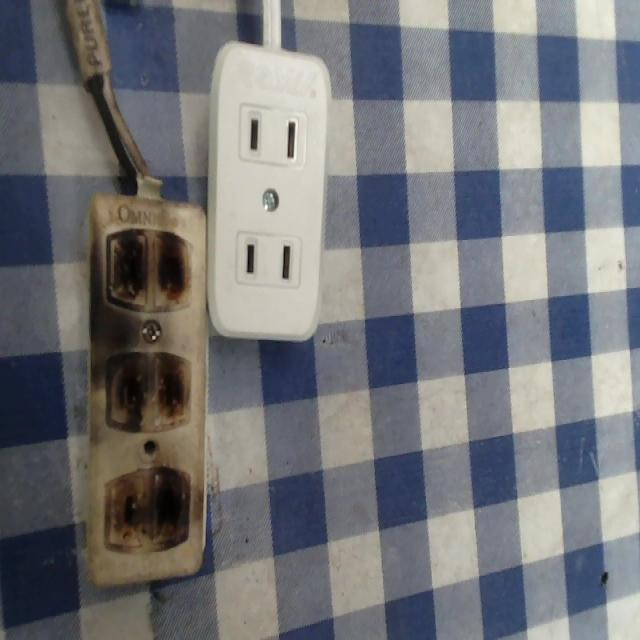-: (98, 460, 189, 552), (103, 223, 193, 309), (102, 348, 189, 433)
